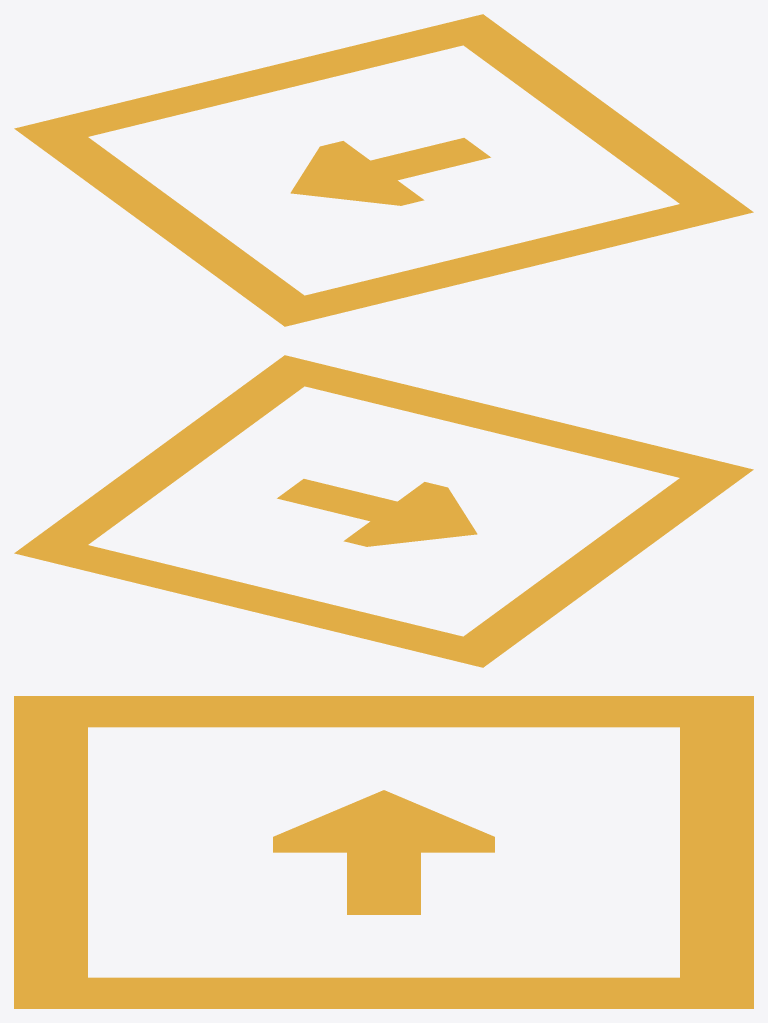
Rendered from kenney-prototype-indicator-special-arrow.glb.
The picture shows the model from 3 angles, top to bottom: view 1: azimuth 30°, elevation 25°; view 2: azimuth 150°, elevation 25°; view 3: azimuth 270°, elevation 25°; orthographic projection. The views are drawn at different scales.
Parts seen in each view (by area): view 1: indicator-special-arrow; view 2: indicator-special-arrow; view 3: indicator-special-arrow.
Boxes of the visible parts, x1,y1,x2,y2 form: indicator-special-arrow: (14,14,753,326); indicator-special-arrow: (14,355,753,667); indicator-special-arrow: (14,696,753,1008).
Size of the model in its own units: 1 by 0 by 1.
1 material, 1 textured.
